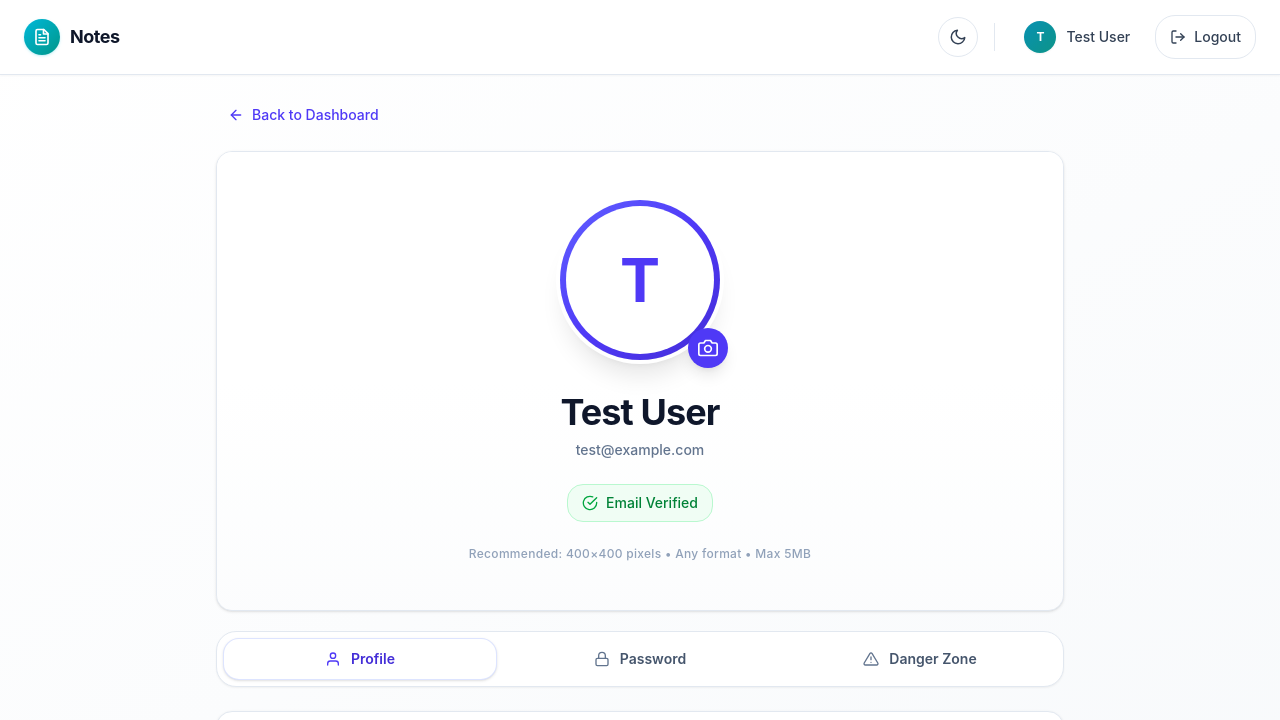
confirming account deletion clears the session and displays landing page details
Click the button "Danger Zone" at (920, 659), box [783, 638, 1057, 680]
(page scrolled)
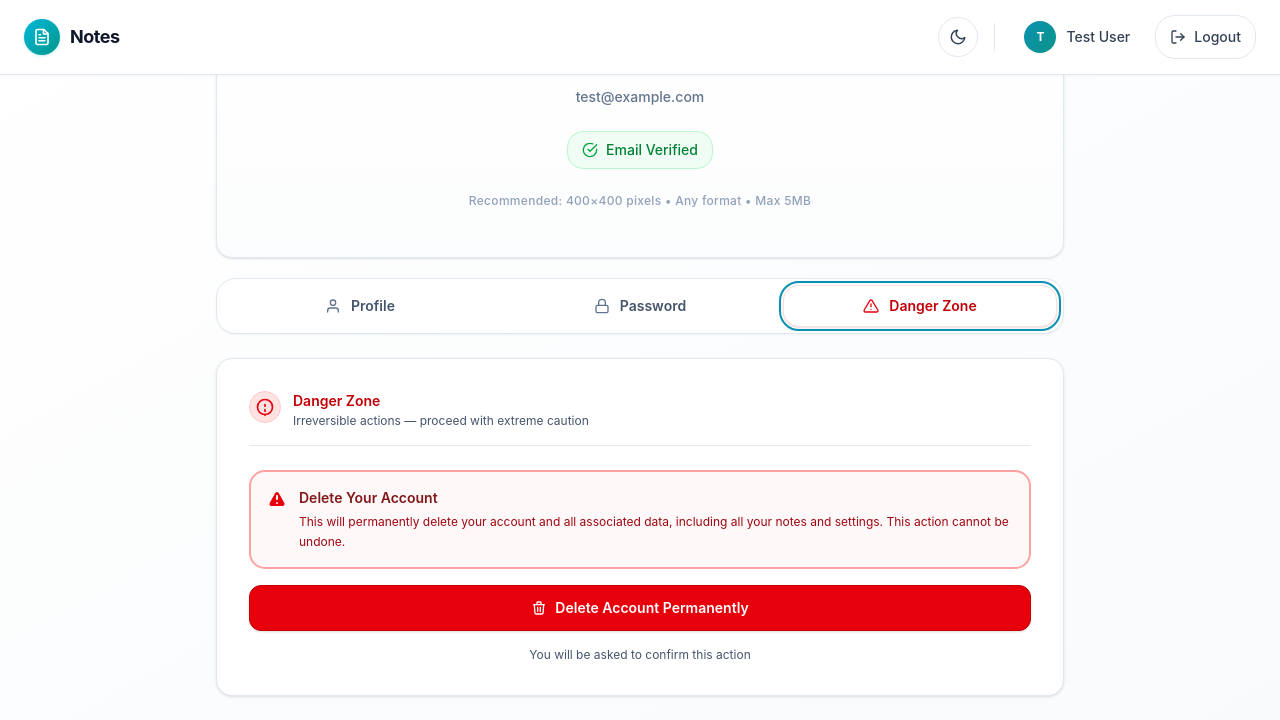
Click the button "Delete Account Permanently" at (640, 608), box [249, 585, 1031, 631]
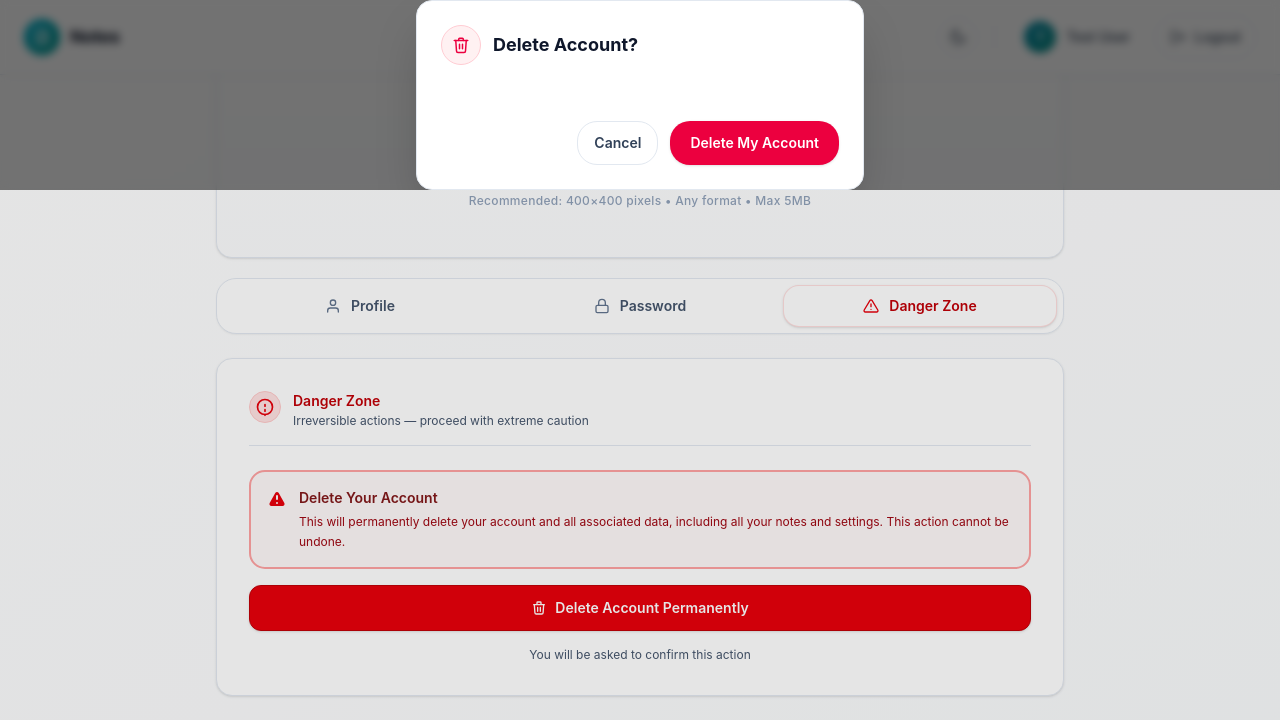
Click the button "Delete My Account" at (755, 143), box [670, 121, 839, 165]
(page scrolled)
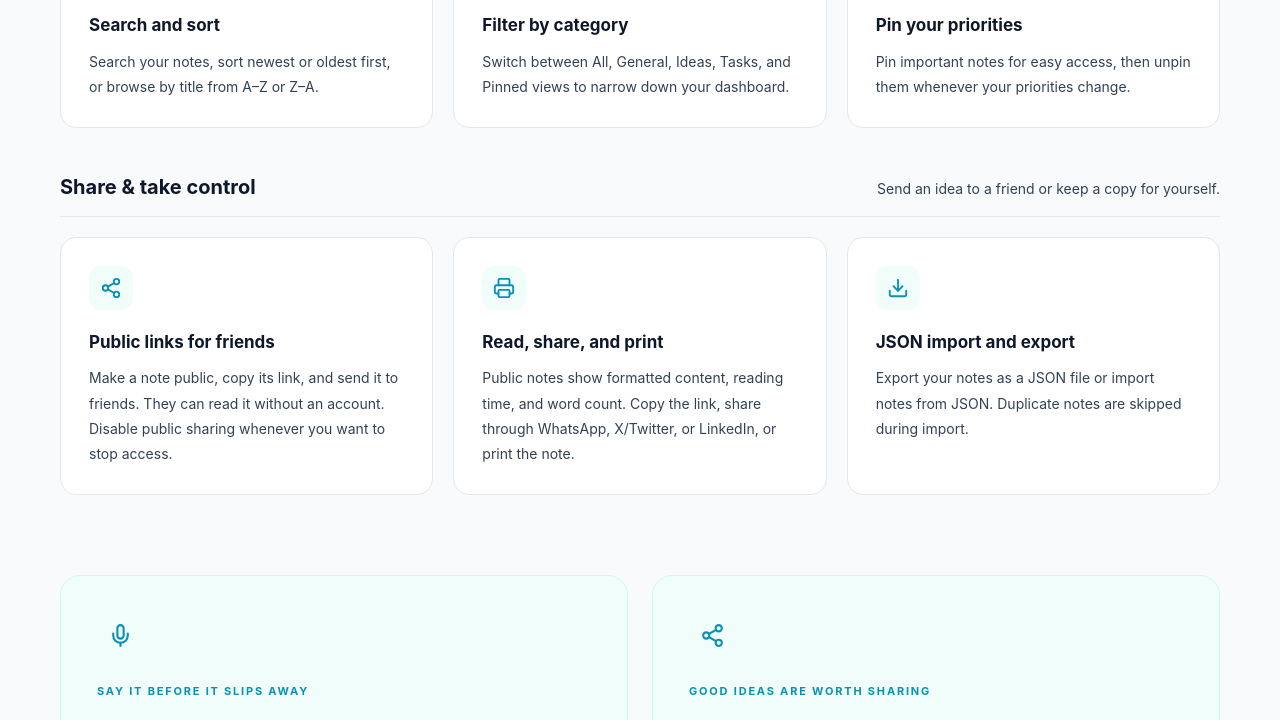
Now the heading "Public links for friends" is shown, box [89, 332, 275, 352]
